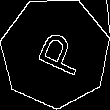P_NW: (25, 25, 85, 80)
